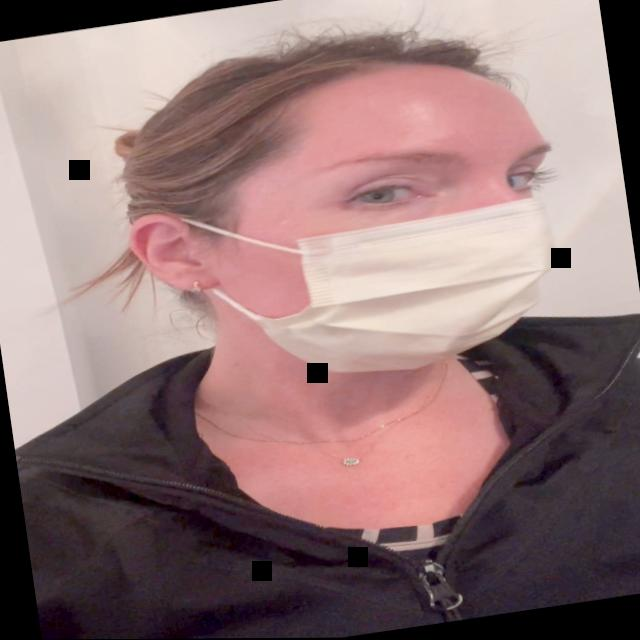Mask: (91, 22, 621, 436)
